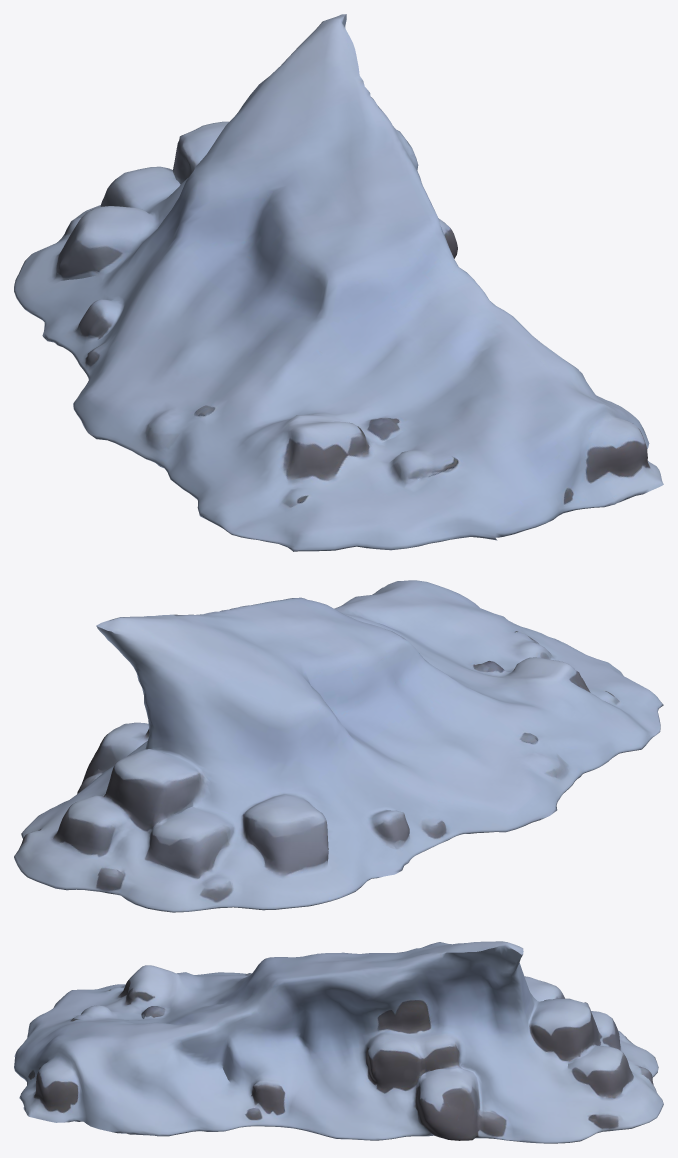
File: snow_drift.glb
The picture shows the model from 3 angles, top to bottom: view 1: azimuth 30°, elevation 25°; view 2: azimuth 150°, elevation 25°; view 3: azimuth 270°, elevation 25°; orthographic projection. The views are drawn at different scales.
Parts seen in each view (by area): view 1: tripo_node_45276c2b; view 2: tripo_node_45276c2b; view 3: tripo_node_45276c2b.
Part boxes in pixels (bbox=[...]): tripo_node_45276c2b: bbox=[14, 14, 663, 551]; tripo_node_45276c2b: bbox=[14, 580, 663, 912]; tripo_node_45276c2b: bbox=[14, 941, 663, 1143].
Bounding box in the file's own units: 58.96 × 29.69 × 99.53.
1 material, 1 textured.
